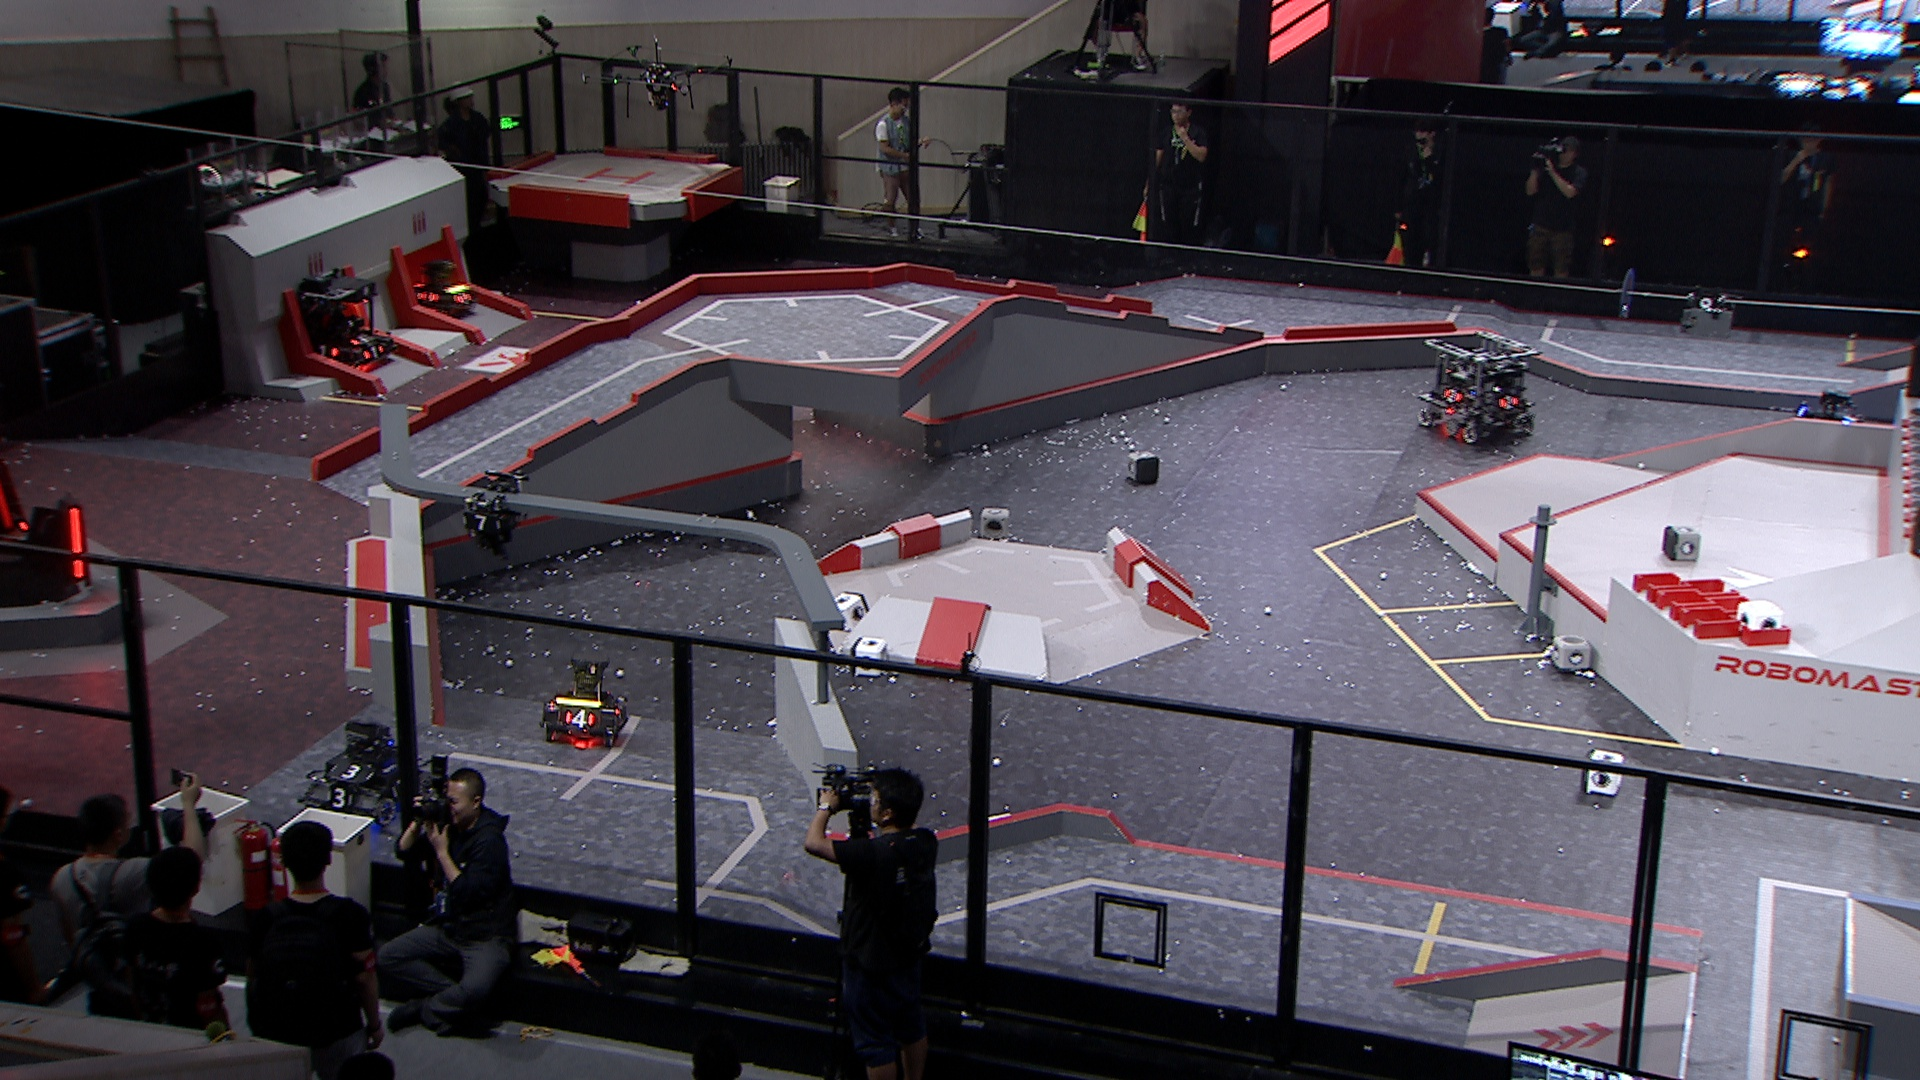armor: (65, 506, 87, 579), (328, 760, 377, 782), (324, 785, 353, 812), (564, 708, 596, 731), (462, 514, 502, 531), (0, 487, 15, 531), (310, 342, 339, 360), (347, 330, 376, 347), (1495, 392, 1519, 411), (359, 342, 386, 357), (1441, 386, 1465, 405), (414, 289, 438, 302), (1840, 411, 1863, 425), (451, 290, 472, 305)
car: (301, 717, 440, 831), (1410, 330, 1539, 446), (286, 268, 398, 371), (535, 647, 632, 752), (1784, 389, 1871, 458), (400, 257, 479, 324)
watcher: (458, 469, 531, 560)
